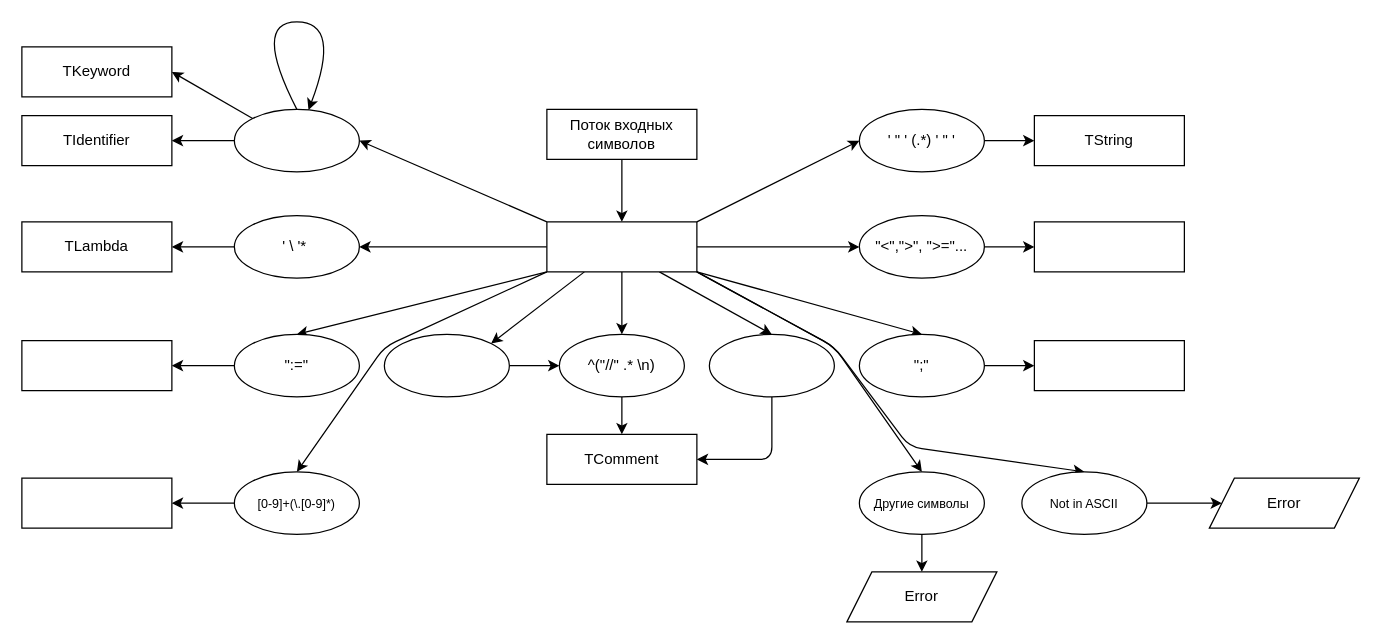
This 1381x644 diagram has some shape labels left out. Here are the shapes that lost their labels. From the top down, the centre of each, then its label:
point 296,140: [a-zA-Z][a-zA-Z0-9]*
point 621,246: Пропуск пробелов во входных символах
point 1108,246: TOp
point 96,365: TAssign
point 446,365: Комментарий тип //, --
point 771,365: "/*" .* "*/ " блочный комментарий
point 1108,365: TSemicolon
point 96,502: TReal
